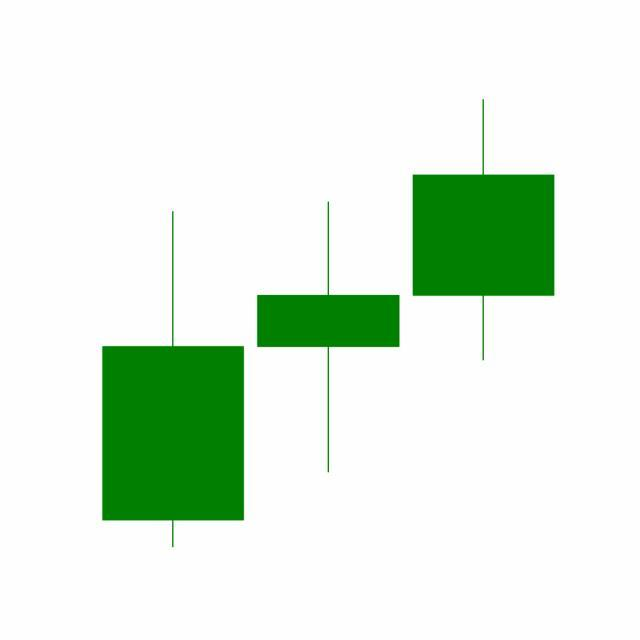Spinning Top: (250, 200, 407, 478)
